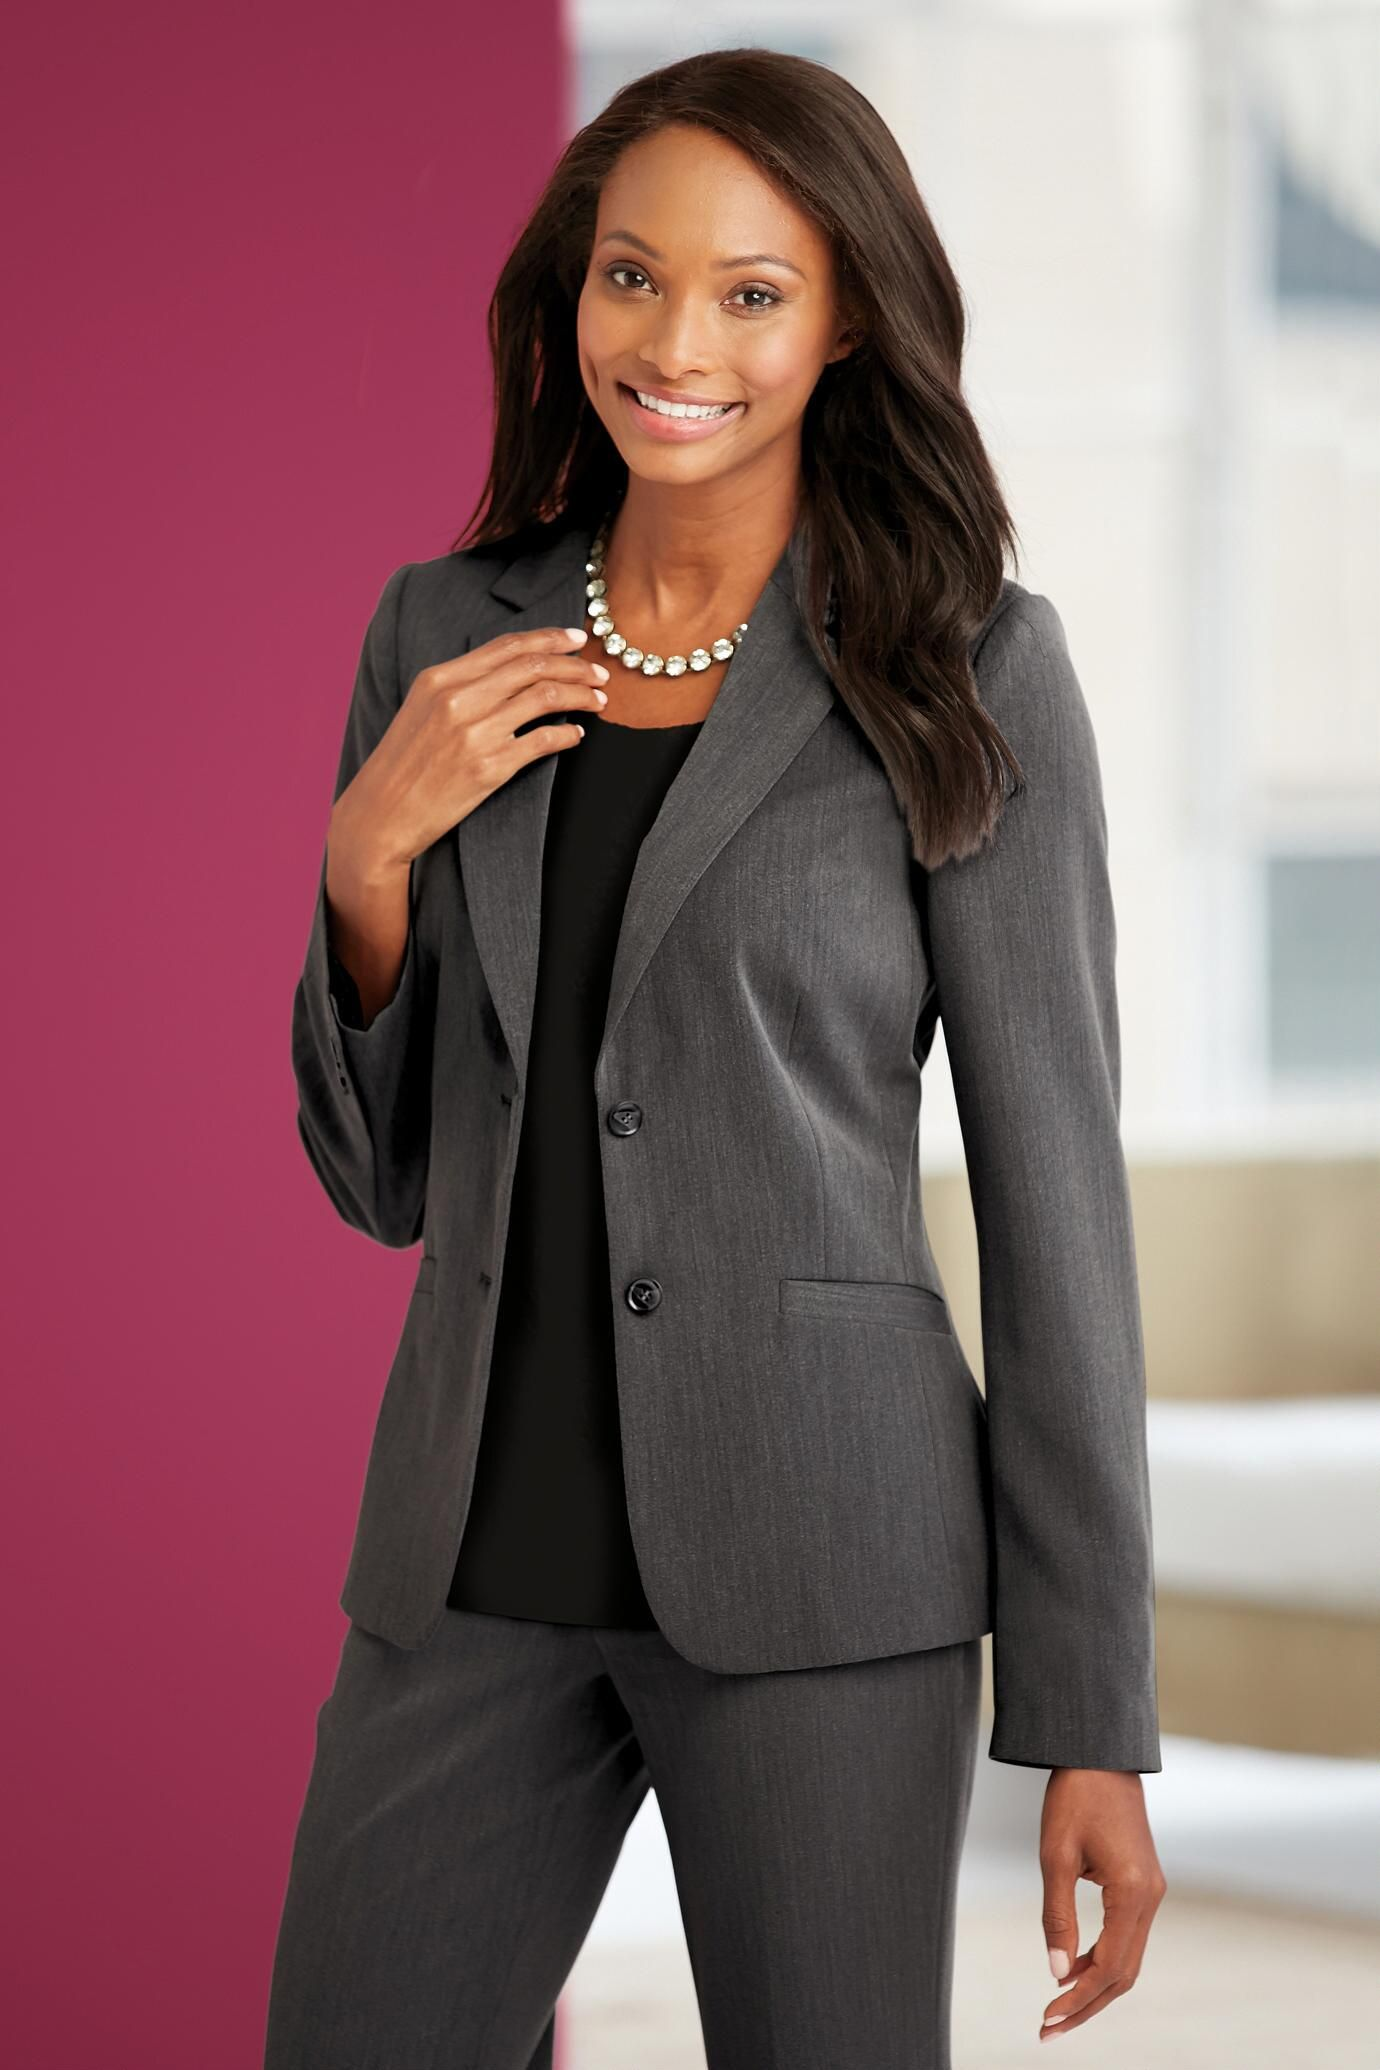F_W_suit jacket: (265, 513, 1198, 1696)
